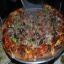pizza: (3, 6, 64, 59)
